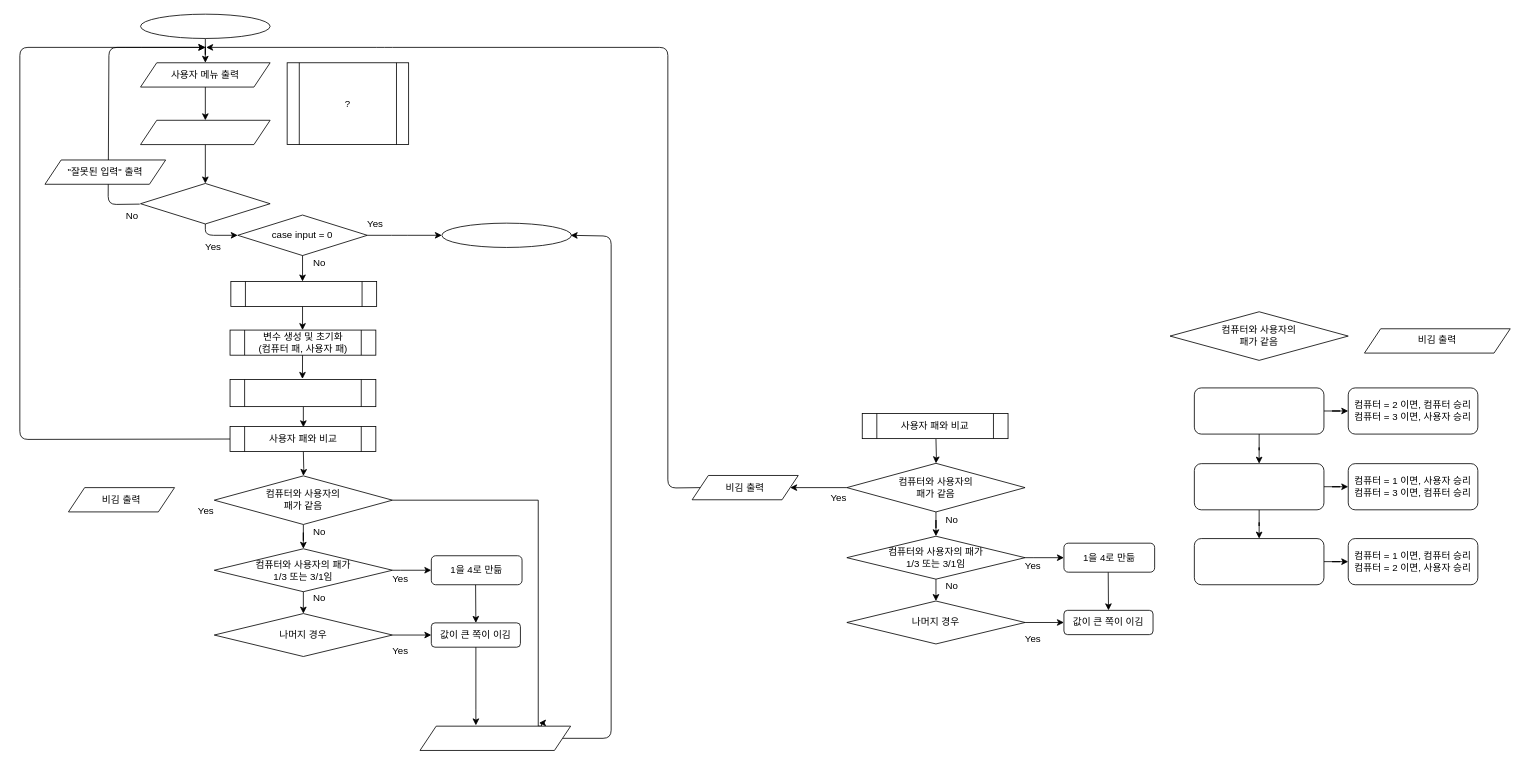
Image size: 1524x765. Some labels were removed from this diagram. The shapes that lost their labels are listed below. From the top down, each one's centre as x and y in pixels, then its label:
At [205,25]: "프로그램 실행".
At [205,132]: "사용자 입력받기 (input)".
At [205,203]: "case input이 0~3이 아님".
At [506,234]: "프로그램 종료".
At [303,294]: "게임 시작".
At [302,393]: "컴퓨터 임의의 패 생성 (1~3 중 하나)".
At [1259,410]: "사용자 입력 = 1".
At [1259,486]: "사용자 입력 = 2".
At [1259,561]: "사용자 입력 = 3".
At [495,737]: "승패 출력".
